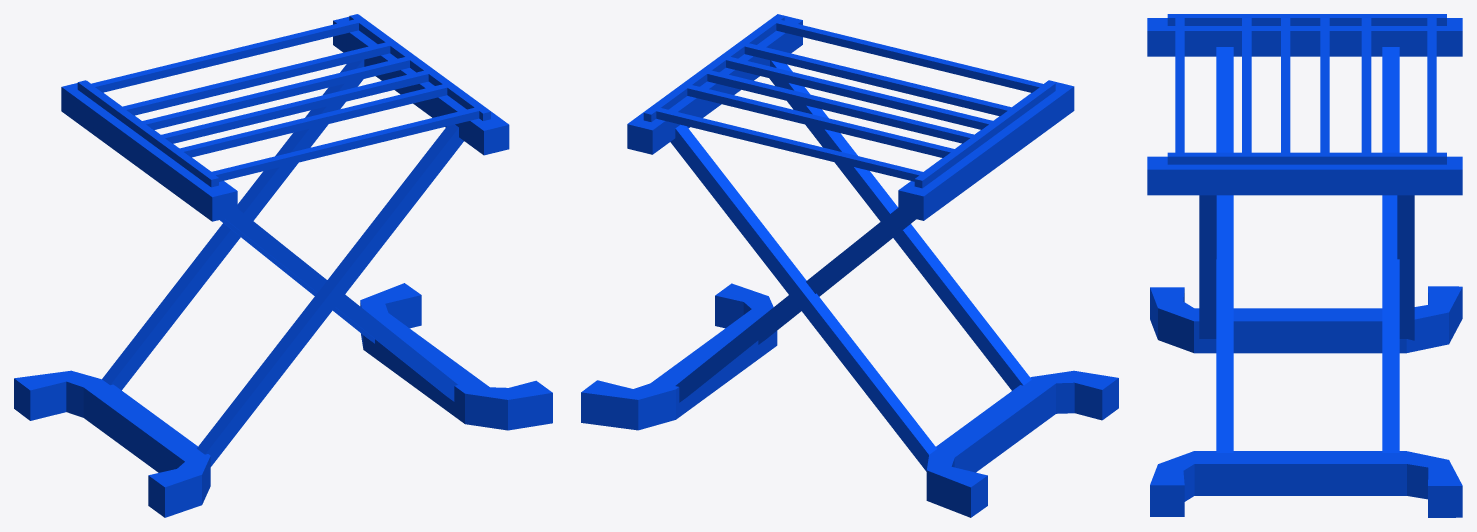
File: study_rack_laundy_1_meshCollider.fbx
The picture shows the model from 3 angles, left to right: view 1: azimuth 30°, elevation 25°; view 2: azimuth 150°, elevation 25°; view 3: azimuth 270°, elevation 25°; orthographic projection. The views are drawn at different scales.
Visible parts, largest first — view 1: study_rack_laundy_1_meshCollider; view 2: study_rack_laundy_1_meshCollider; view 3: study_rack_laundy_1_meshCollider.
Boxes of the visible parts, <box> form: study_rack_laundy_1_meshCollider: <box>14,14,552,517</box>; study_rack_laundy_1_meshCollider: <box>581,14,1118,517</box>; study_rack_laundy_1_meshCollider: <box>1147,14,1462,517</box>.
Bounding box in the file's own units: 56.82 × 44.19 × 37.94.
